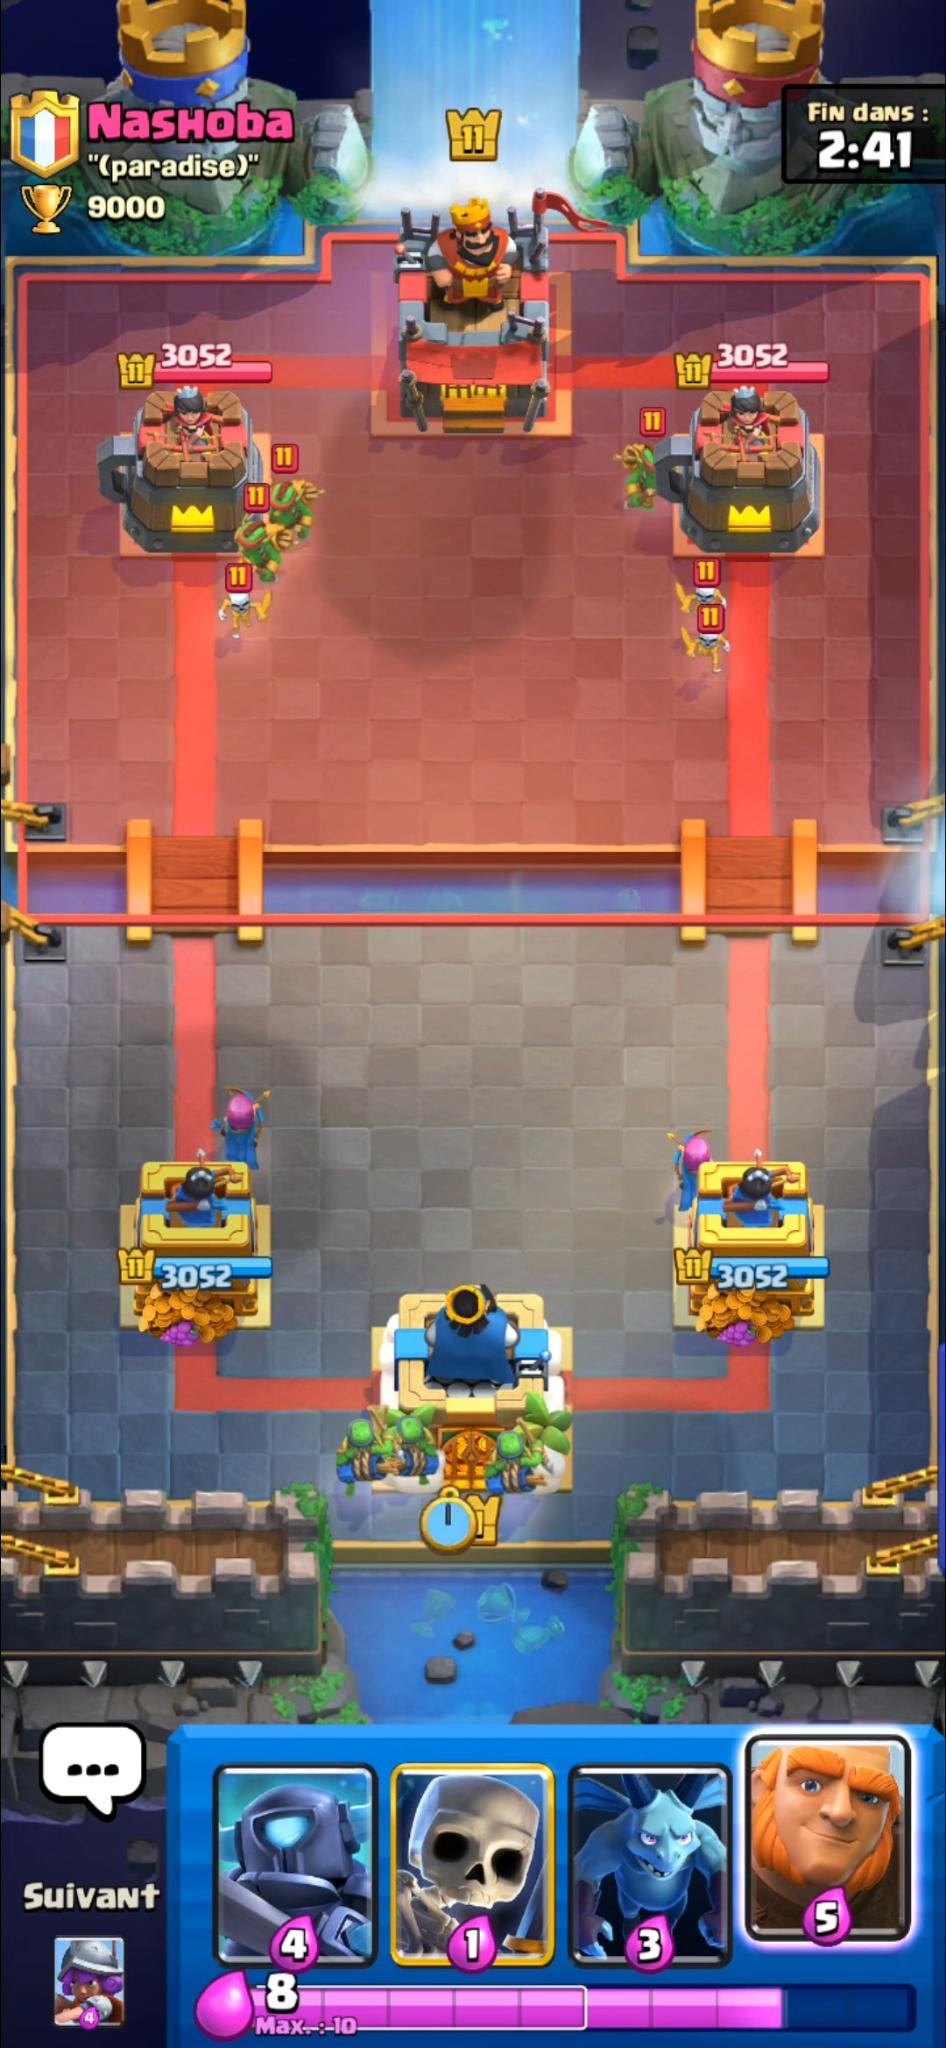archere: (659, 1128, 713, 1223), (212, 1092, 270, 1170)
gobelin_lances: (204, 478, 324, 566), (614, 436, 693, 509)
squelette: (676, 562, 729, 671), (216, 592, 273, 641)
